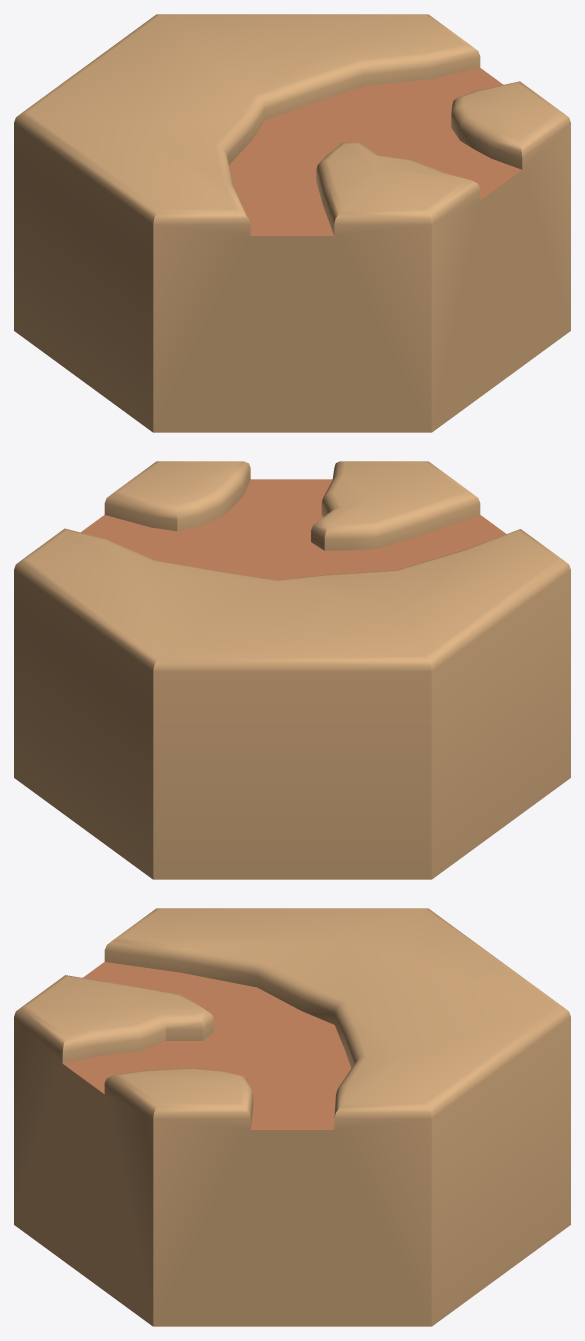
The model's file is hex_sand_roadH.glb.
The picture shows the model from 3 angles, top to bottom: view 1: azimuth 30°, elevation 25°; view 2: azimuth 150°, elevation 25°; view 3: azimuth 270°, elevation 25°; orthographic projection.
Visible parts, largest first — view 1: hex_sand_roadH; view 2: hex_sand_roadH; view 3: hex_sand_roadH.
Boxes of the visible parts, x1,y1,x2,y2 form: hex_sand_roadH: [14, 14, 570, 432]; hex_sand_roadH: [14, 461, 570, 879]; hex_sand_roadH: [14, 908, 570, 1326].
Bounding box in the file's own units: 2.4 × 1.2 × 2.77.
